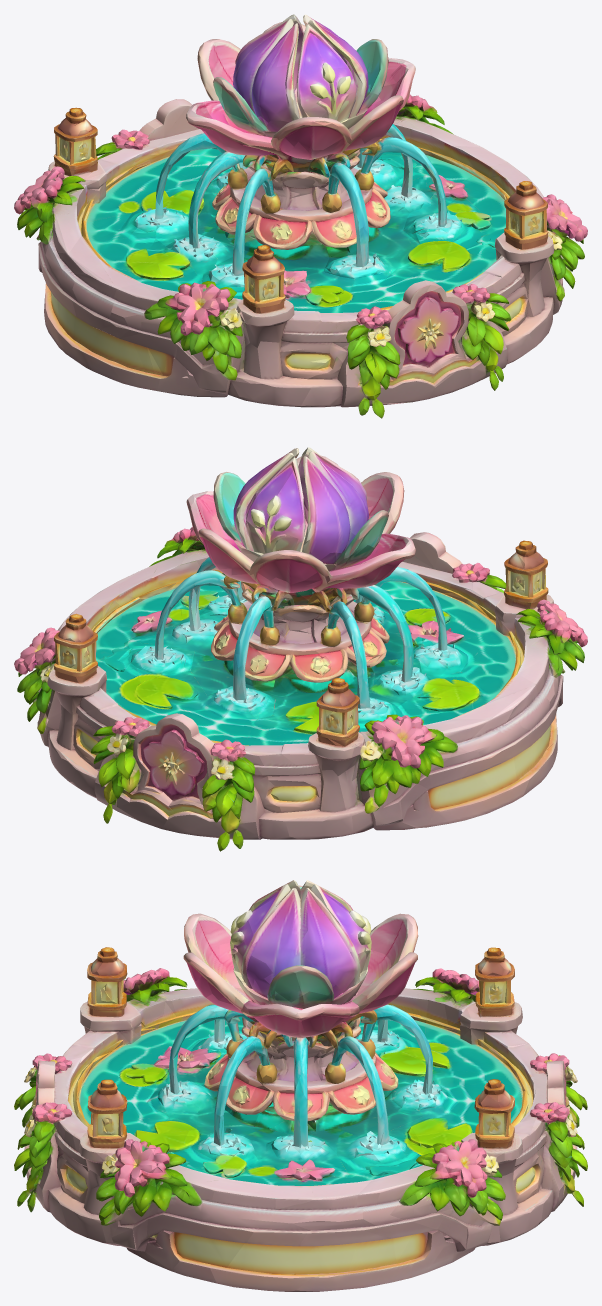
Rendered from city-seed.glb.
3 renders of one model, top to bottom at view 1: azimuth 30°, elevation 25°; view 2: azimuth 150°, elevation 25°; view 3: azimuth 270°, elevation 25°, orthographic. The views are drawn at different scales.
Bounding box in the file's own units: 1.79 × 1.15 × 1.89.
Materials: 1 (1 with a texture image).
